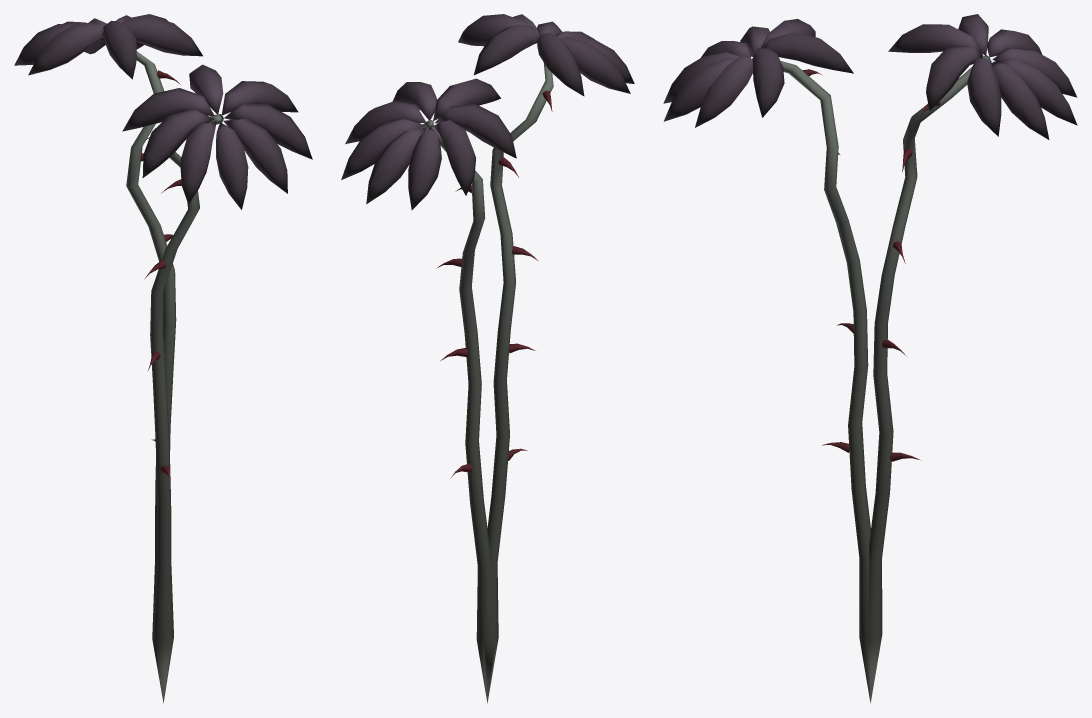
Rendered from plants-flowers-thorny-purple-flower_v3.glb.
3 renders of one model, left to right at view 1: azimuth 30°, elevation 25°; view 2: azimuth 150°, elevation 25°; view 3: azimuth 270°, elevation 25°, orthographic. The views are drawn at different scales.
Visible parts, largest first — view 1: Thorny Purple Flower_v3; view 2: Thorny Purple Flower_v3; view 3: Thorny Purple Flower_v3.
Boxes of the visible parts, bbox=[...] form: Thorny Purple Flower_v3: bbox=[14, 14, 312, 702]; Thorny Purple Flower_v3: bbox=[341, 14, 634, 703]; Thorny Purple Flower_v3: bbox=[663, 14, 1077, 703].
Size of the model in its own units: 0.1581 by 0.6 by 0.3336.
